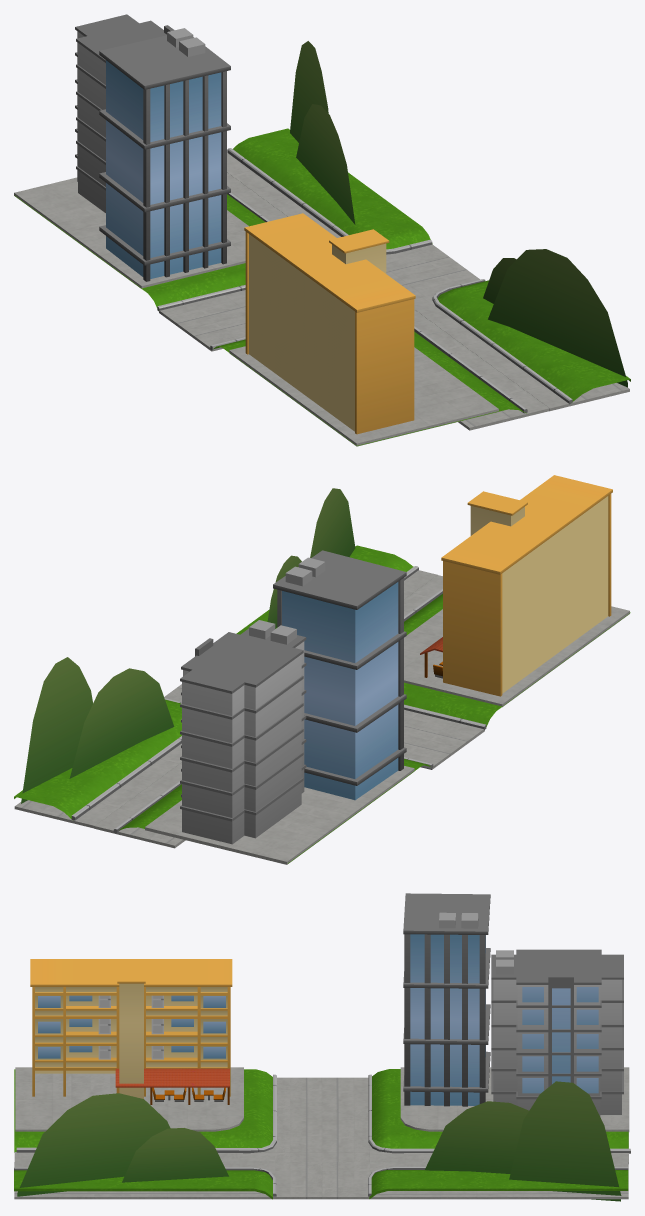
Rendered from Level 2 Chunk 5 V2.fbx.
3 renders of one model, top to bottom at view 1: azimuth 30°, elevation 25°; view 2: azimuth 150°, elevation 25°; view 3: azimuth 270°, elevation 25°, orthographic. The views are drawn at different scales.
Parts seen in each view (by area): view 1: polySurface1204, Building_A35, pasted__pasted__pCube5668, pCube9302, pCube9329, pCube9284, Building_C48, pCube9380, pCube9304, pCube9379, pasted__pasted__pCube5669, pCube9328 (+7 smaller); view 2: polySurface1204, Building_A35, Building_C48, pCube9379, pasted__pasted__pCube5669, pasted__pasted__pCube5670, pCube9329, pCube9380, pCube9284, pCube9302, pCube9327, pasted__pasted__pCube5668 (+5 smaller); view 3: polySurface1204, Building_C48, Building_A35, pCube9329, pasted__pasted__pCube5668, pCube9302, pasted__pasted__pCube5670, pCube9380, pasted__pasted__pCube5669, pasted__pasted__pCube5671, pCube9284, pCube9304 (+5 smaller).
Part boxes in pixels (x1,y1,x2,y2): polySurface1204: (244, 213, 415, 434); Building_A35: (99, 28, 230, 281); pasted__pasted__pCube5668: (488, 249, 627, 387); pCube9302: (227, 152, 629, 410); pCube9329: (159, 172, 549, 430); pCube9284: (233, 128, 432, 249); Building_C48: (75, 14, 174, 212); pCube9380: (229, 346, 498, 446); pCube9304: (437, 280, 630, 401); pCube9379: (14, 177, 248, 288); pasted__pasted__pCube5669: (296, 104, 355, 224); pCube9328: (14, 194, 265, 308); polySurface1204: (420, 475, 612, 696); Building_A35: (273, 550, 406, 800); Building_C48: (180, 620, 306, 844); pCube9379: (145, 766, 414, 864); pasted__pasted__pCube5669: (69, 668, 174, 778); pasted__pasted__pCube5670: (21, 657, 92, 803); pCube9329: (94, 575, 484, 848); pCube9380: (404, 606, 629, 707); pCube9284: (14, 699, 181, 818); pCube9302: (14, 570, 437, 828); pCube9327: (404, 594, 630, 726); pasted__pasted__pCube5668: (310, 488, 355, 557); polySurface1204: (30, 959, 232, 1104); Building_C48: (491, 949, 623, 1116); Building_A35: (403, 893, 490, 1106); pCube9329: (14, 1077, 628, 1163); pasted__pasted__pCube5668: (17, 1093, 170, 1196); pCube9302: (14, 1162, 628, 1199); pasted__pasted__pCube5670: (509, 1081, 621, 1201); pCube9380: (15, 1067, 243, 1131); pasted__pasted__pCube5669: (425, 1101, 528, 1173); pasted__pasted__pCube5671: (122, 1128, 228, 1182); pCube9284: (369, 1170, 628, 1199); pCube9304: (14, 1170, 272, 1199).
Size of the model in its own units: 12.26 by 9.55 by 26.67.
2 materials, 2 textured.
